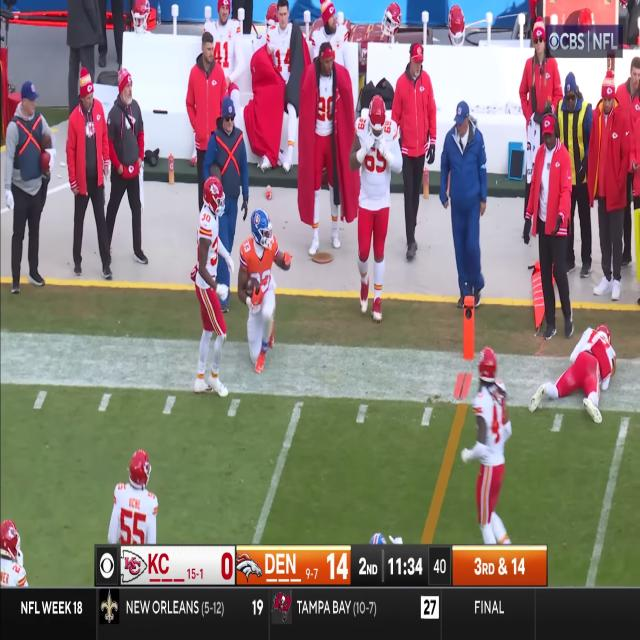Player: (349, 97, 397, 328), (532, 322, 623, 433), (468, 346, 511, 551), (192, 170, 230, 400), (240, 209, 277, 373), (108, 443, 166, 542)
